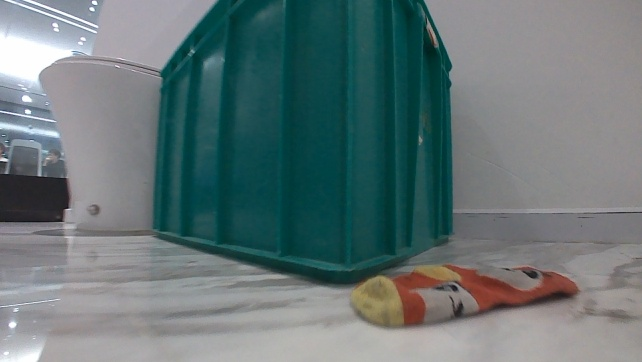socks: (346, 258, 580, 329)
toilet: (35, 50, 163, 234)
